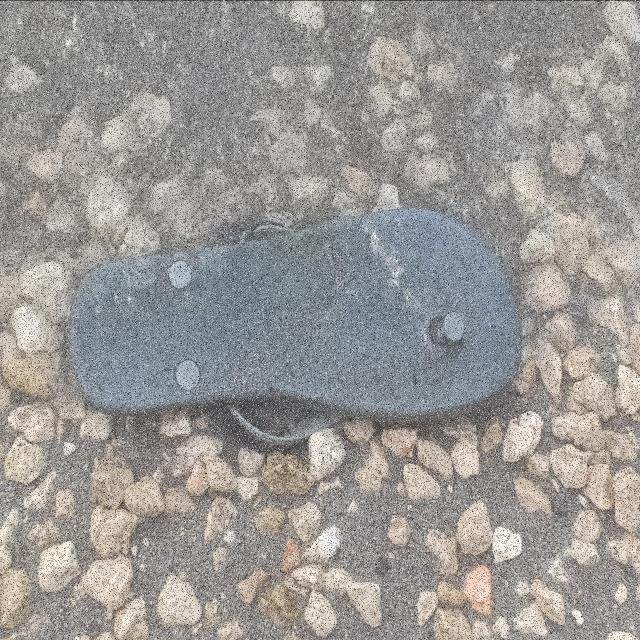rubber_waste: (70, 205, 524, 450)
